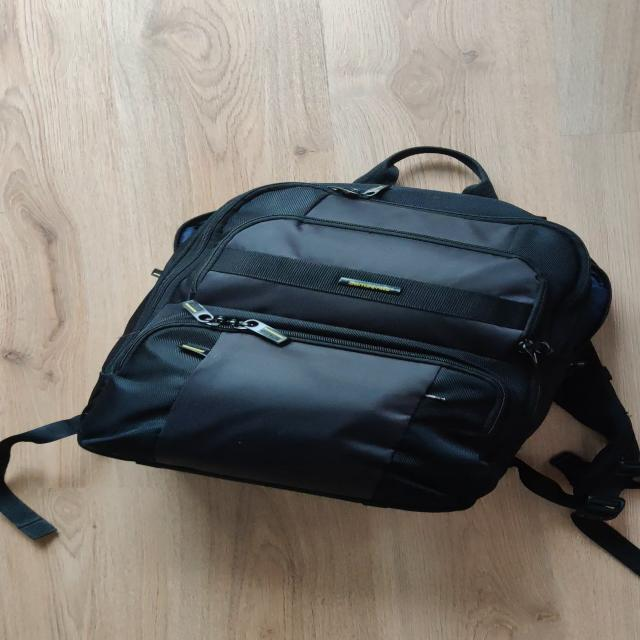backpack: (50, 142, 640, 522)
